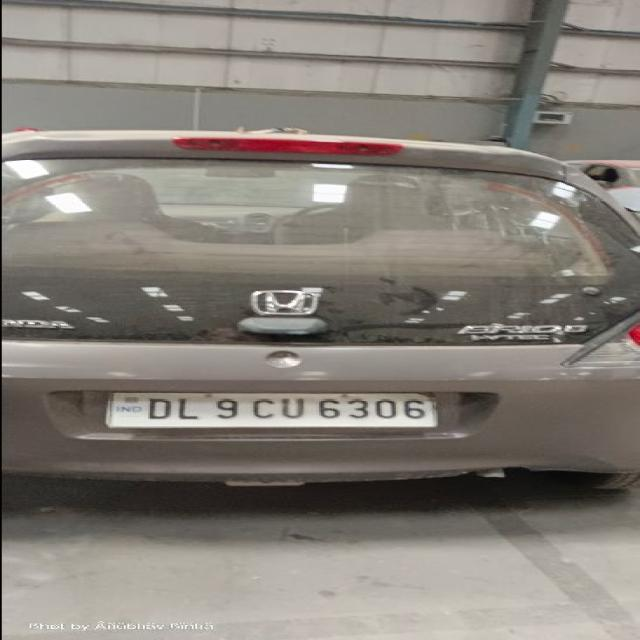license_plate: (103, 391, 439, 429)
